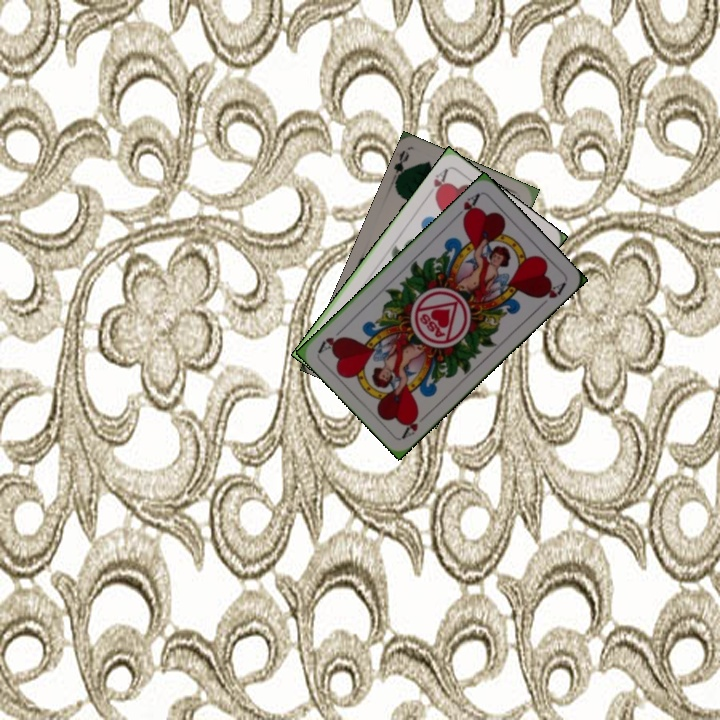GO: (387, 147, 412, 188)
HA: (450, 189, 483, 224), (398, 408, 431, 441), (422, 165, 451, 202)
